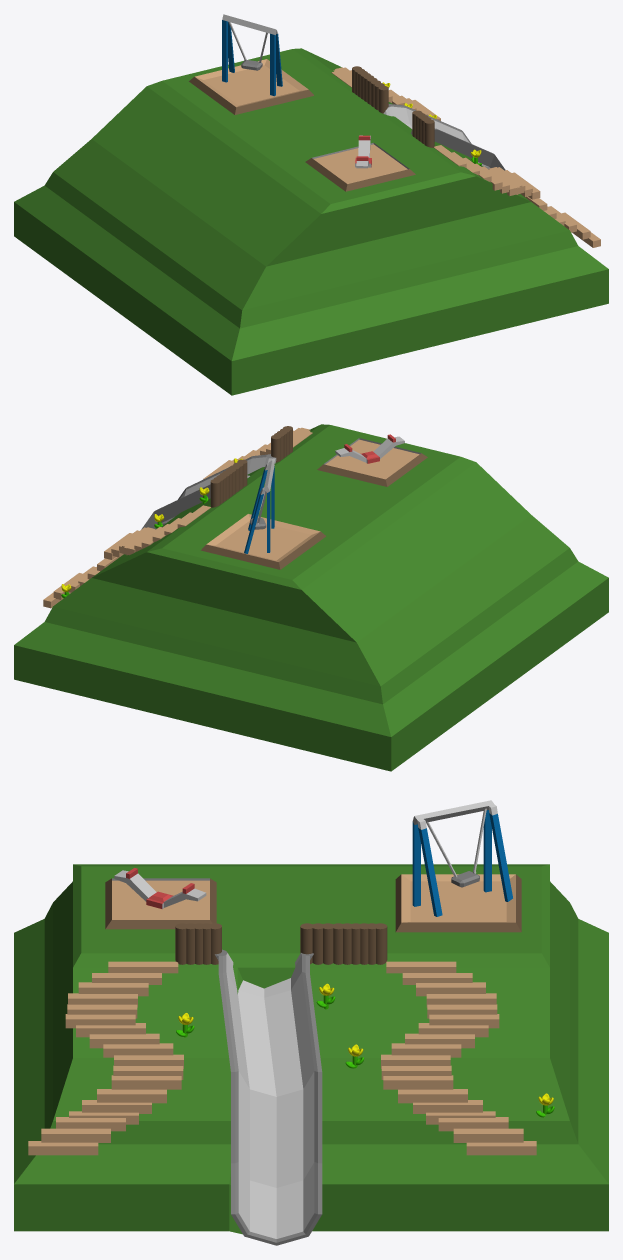
Rendered from numero2.fbx.
The picture shows the model from 3 angles, top to bottom: view 1: azimuth 30°, elevation 25°; view 2: azimuth 150°, elevation 25°; view 3: azimuth 270°, elevation 25°; orthographic projection. The views are drawn at different scales.
Visible parts, largest first — view 1: numero2; view 2: numero2; view 3: numero2.
Part boxes in pixels (x1,y1,x2,y2): numero2: (14,14,608,395); numero2: (14,424,608,771); numero2: (14,800,608,1245).
Bounding box in the file's own units: 345 × 178 × 328.
